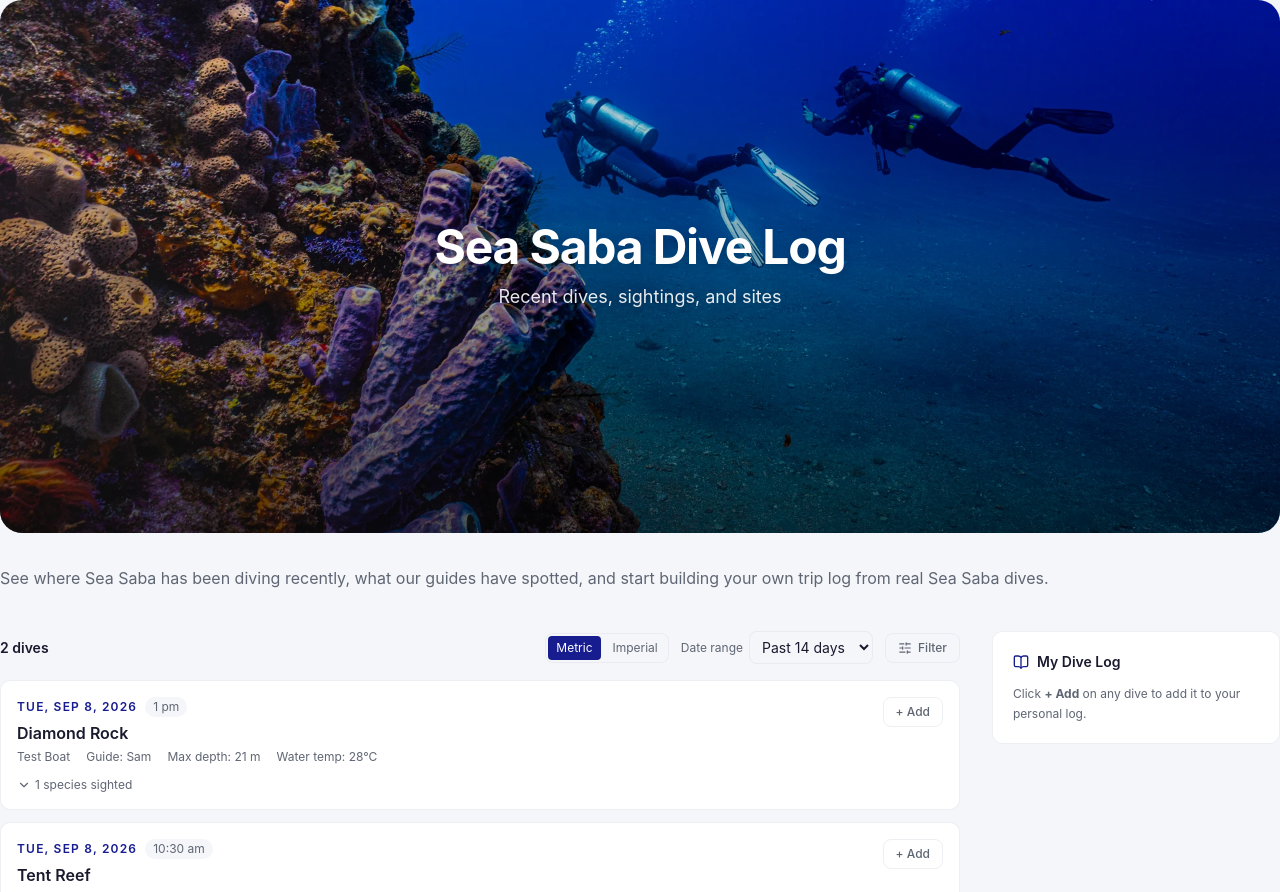
Test: surfaces a failed PDF export as an alert with no lingering status region
Check: the heading "2 dives" is shown, box [0,638,49,658]
Click the button with aria-label "Add Tent Reef to my dive log" at (913, 854), box [882,839,943,869]
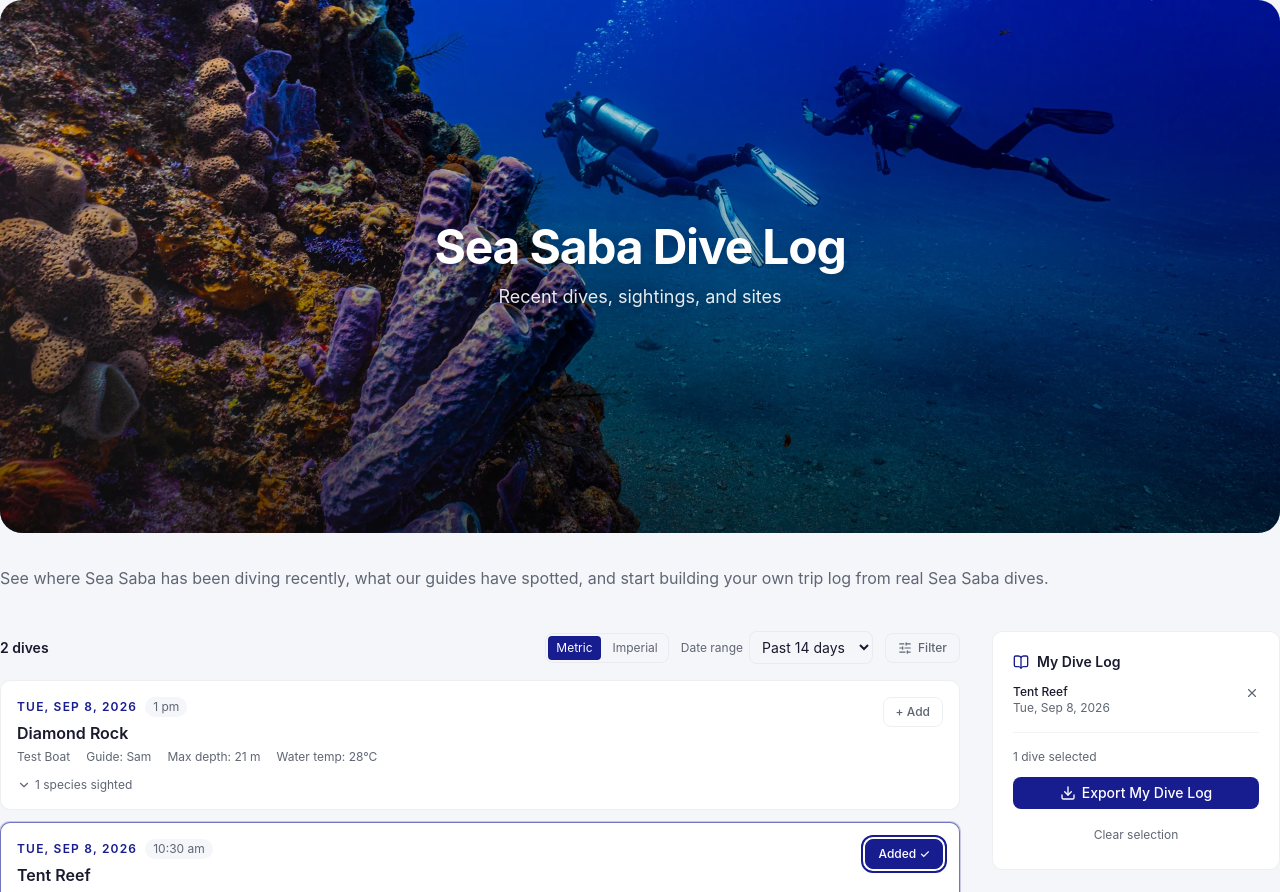
Click the button "Export My Dive Log" at (1136, 793), box [1013,777,1259,809]
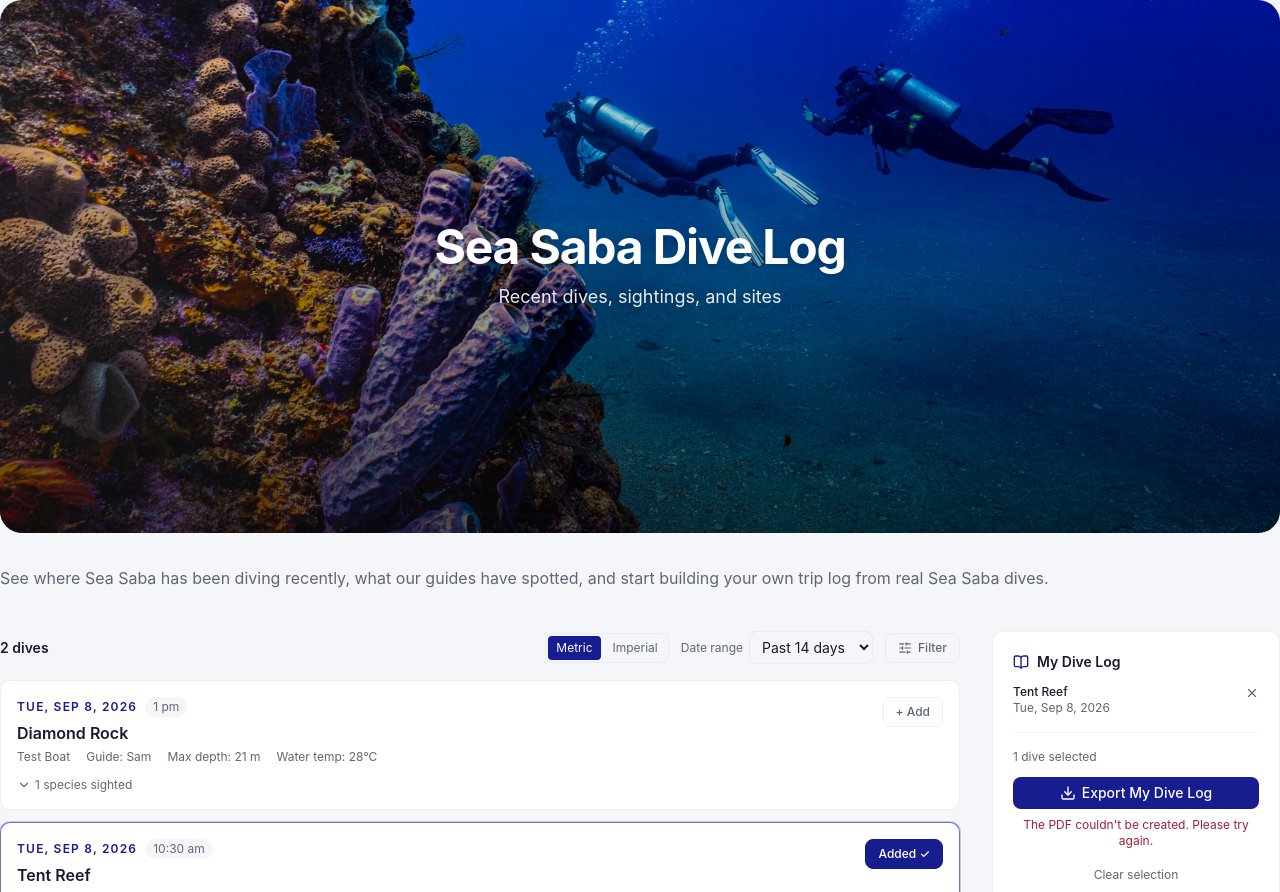
Check: the button "Export My Dive Log" is enabled, box [1013,777,1259,809]
Check: the message shows "couldn't be created", box [1023,817,1249,848]
